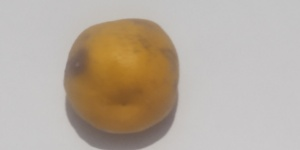BAD: (65, 17, 180, 133)
